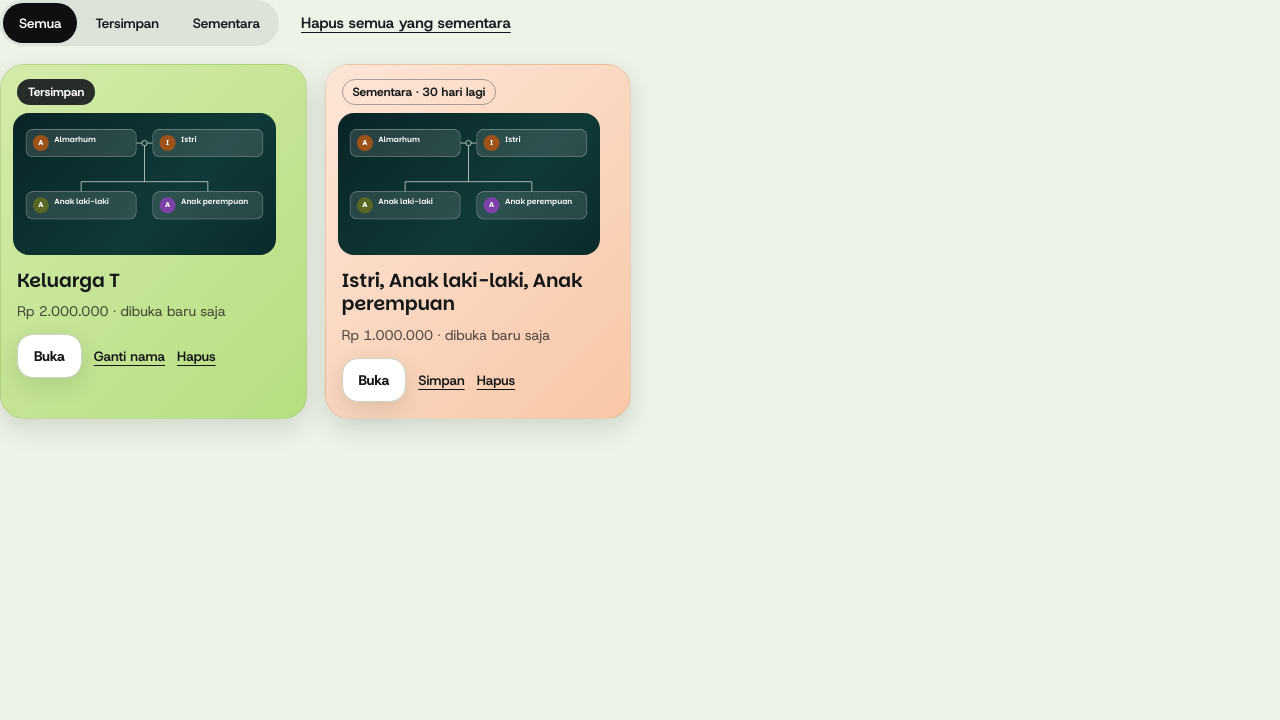
it: halaman penuh: penyaring hanya bila dua jenis ada; cari hanya bila banyak; hapus semua sementara menyisakan tersimpan
Click the button "Tersimpan" at (127, 23), box [79,3,175,43]
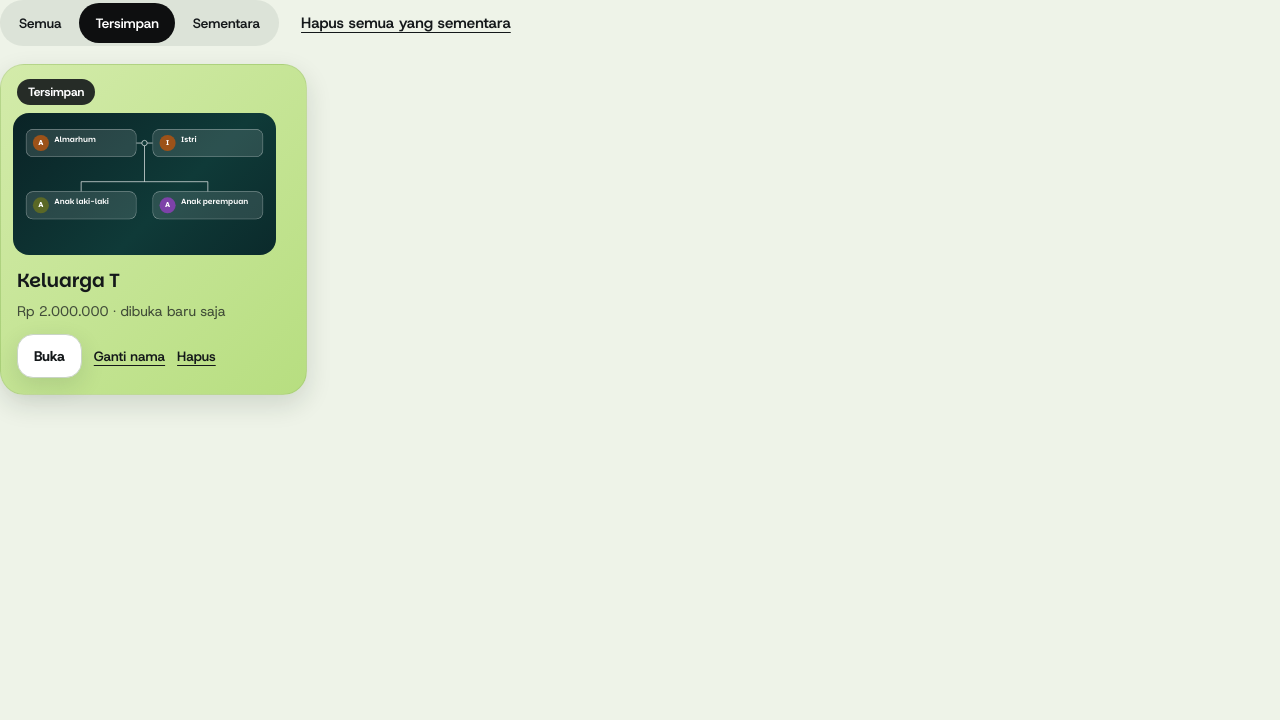
Expected: the headings read "Keluarga T", in this order, [17,267,120,294]
Click the button "Hapus semua yang sementara" at (406, 23), box [301,3,511,43]
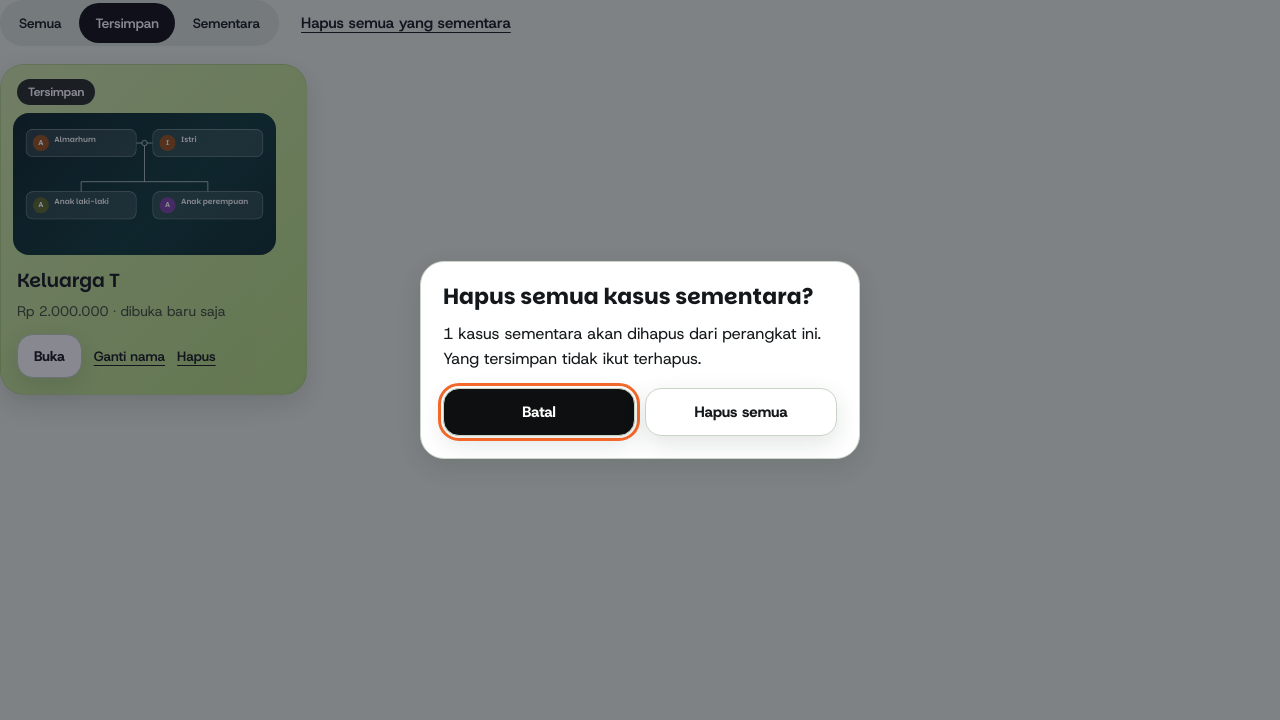
Click the button "Hapus semua" at (741, 412), box [645,388,837,436]
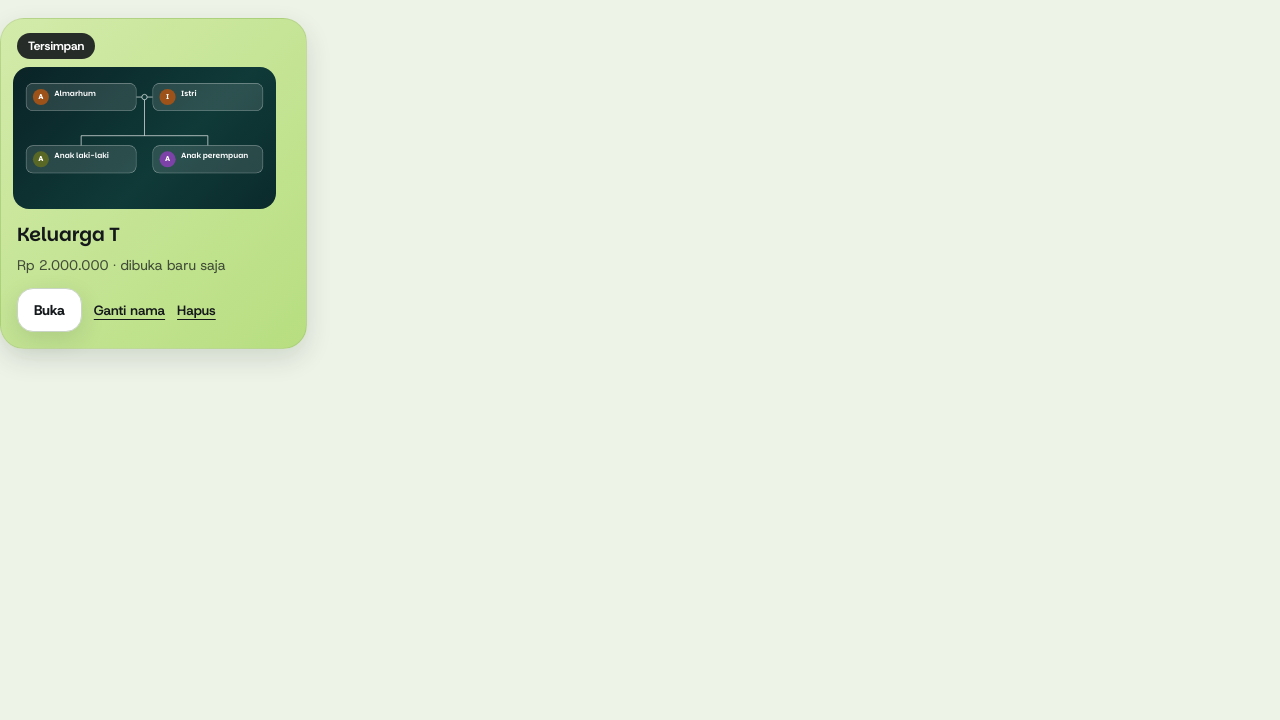
Result: the headings read "Keluarga T", in this order at [17,221,120,248]
Result: the button "Hapus semua yang sementara" is gone
